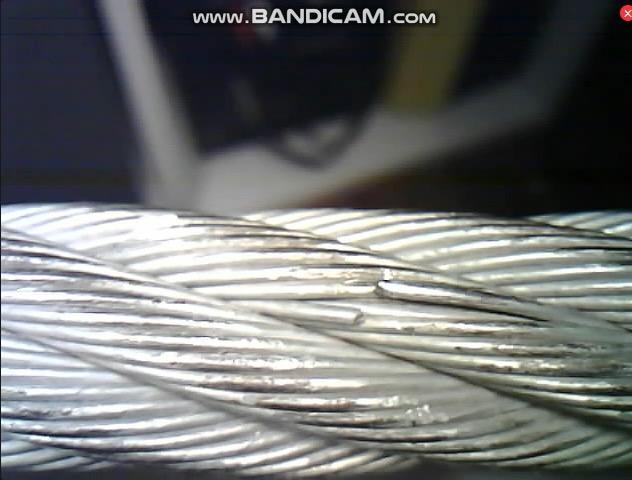break: (335, 274, 397, 339)
